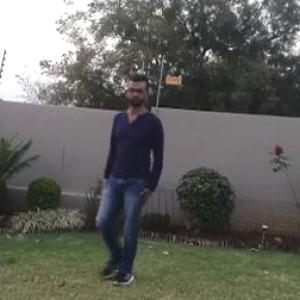follow: (108, 73, 180, 281)
